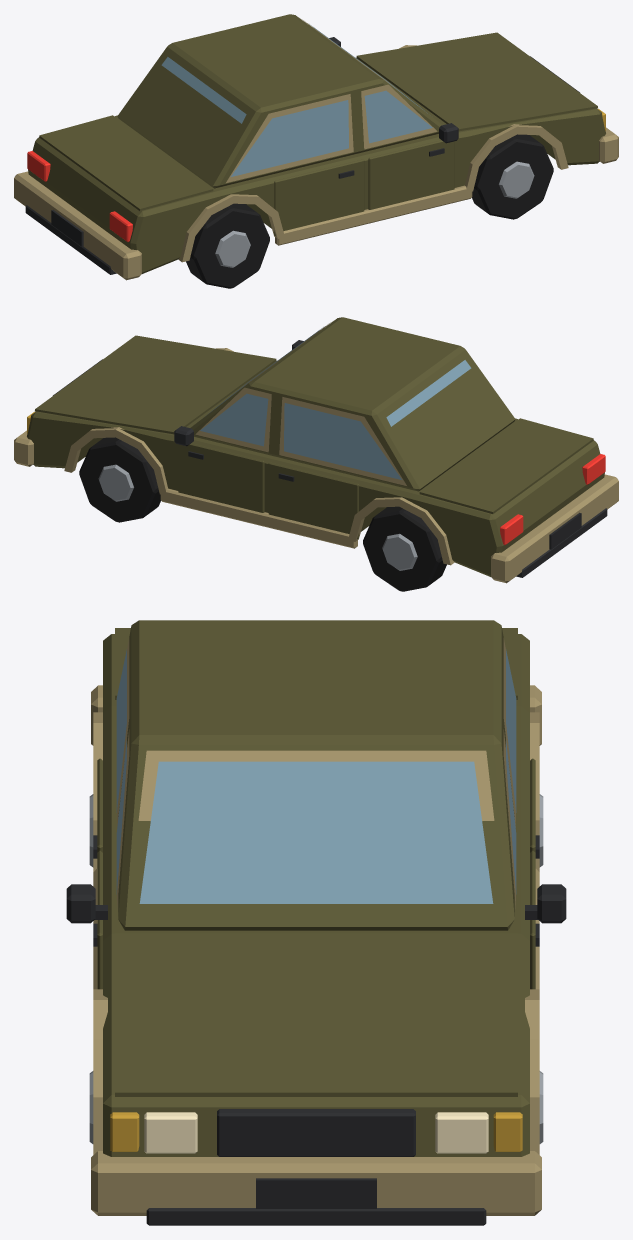
Rendered from sedan_olive_hand.glb.
The picture shows the model from 3 angles, top to bottom: view 1: azimuth 30°, elevation 25°; view 2: azimuth 150°, elevation 25°; view 3: azimuth 270°, elevation 25°; orthographic projection. The views are drawn at different scales.
Visible parts, largest first — view 1: sedan_body, hood, trunk, wheel_rr, wheel_fr, door_r_r, door_f_r; view 2: sedan_body, hood, trunk, wheel_rl, wheel_fl, door_r_l, door_f_l; view 3: sedan_body, hood, trunk, door_f_r, door_f_l.
Boxes of the visible parts, x1,y1,x2,y2 form: sedan_body: [14, 14, 618, 280]; hood: [356, 32, 597, 131]; trunk: [39, 115, 213, 210]; wheel_rr: [186, 203, 269, 288]; wheel_fr: [472, 134, 553, 219]; door_r_r: [274, 159, 364, 235]; door_f_r: [368, 140, 454, 209]; sedan_body: [14, 317, 618, 583]; hood: [35, 335, 276, 434]; trunk: [419, 418, 593, 513]; wheel_rl: [363, 506, 446, 591]; wheel_fl: [79, 437, 160, 522]; door_r_l: [268, 462, 358, 538]; door_f_l: [178, 443, 264, 512]; sedan_body: [66, 620, 566, 1225]; hood: [115, 933, 517, 1096]; trunk: [115, 628, 517, 699]; door_f_r: [93, 850, 102, 989]; door_f_l: [530, 850, 539, 989].
Bounding box in the file's own units: 4.76 × 1.49 × 2.06.
Materials: 1 (1 with a texture image).
